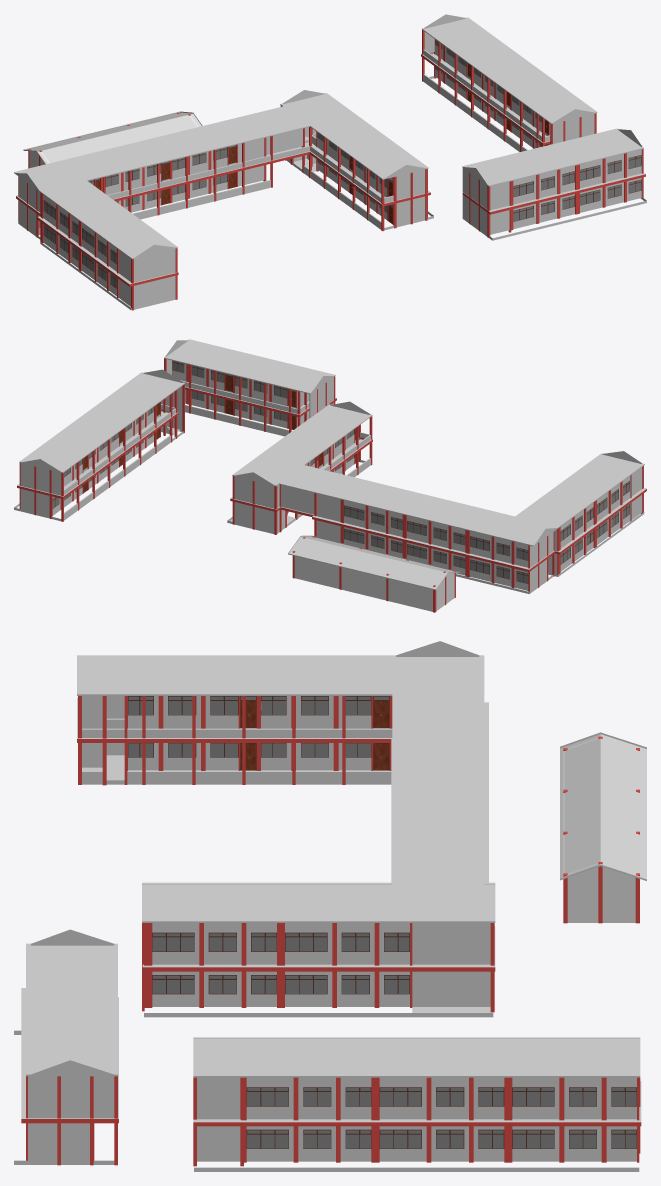
Rendered from building.fbx.
The picture shows the model from 3 angles, top to bottom: view 1: azimuth 30°, elevation 25°; view 2: azimuth 150°, elevation 25°; view 3: azimuth 270°, elevation 25°; orthographic projection. The views are drawn at different scales.
Parts seen in each view (by area): view 1: Cube.059, Cube.010, Cube.091, Cube.076, Cube.047, Cube.088, Cube.080, Cube.037, Cube.051, Cube.074, Cube.006, Cube.045 (+18 smaller); view 2: Cube.059, Cube.010, Cube.063, Cube.076, Cube.047, Cube.088, Cube.073, Cube.037, Cube.039, Cube.033, Cube.091, Cube.080 (+18 smaller); view 3: Cube.039, Cube.051, Cube.059, Cube.010, Cube.080, Cube.076, Cube.047, Cube.088, Cube.037, Cube.075, Cube.006, Cube.071 (+13 smaller).
Boxes of the visible parts, x1,y1,x2,y2 form: Cube.059: (14,106,319,192); Cube.010: (422,14,597,123); Cube.091: (509,149,643,230); Cube.076: (41,177,177,259); Cube.047: (280,90,428,179); Cube.088: (462,128,643,186); Cube.080: (40,192,118,297); Cube.037: (23,111,202,164); Cube.051: (316,131,427,225); Cube.074: (462,168,645,234); Cube.006: (421,49,594,151); Cube.045: (16,146,310,217); Cube.059: (269,465,559,546); Cube.010: (19,369,185,472); Cube.063: (340,499,553,568); Cube.076: (515,451,644,532); Cube.047: (232,401,372,486); Cube.088: (164,339,335,394); Cube.073: (340,526,546,591); Cube.037: (288,535,459,590); Cube.039: (19,402,160,516); Cube.033: (294,537,454,611); Cube.091: (166,359,309,428); Cube.080: (548,475,631,574); Cube.039: (241,1043,639,1162); Cube.051: (144,923,412,1007); Cube.059: (391,641,484,903); Cube.010: (193,1037,640,1077); Cube.080: (127,696,392,770); Cube.076: (77,655,439,695); Cube.047: (142,882,495,922); Cube.088: (26,929,117,1076); Cube.037: (560,732,646,880); Cube.075: (77,697,392,780); Cube.006: (193,1039,641,1161); Cube.071: (412,923,490,1006).
Size of the model in its own units: 21610 by 2483 by 13516.
